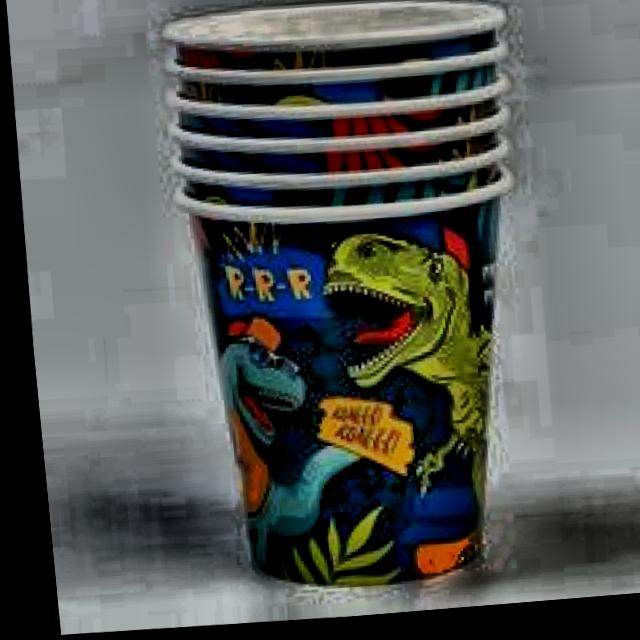Cup: (146, 0, 560, 608)
